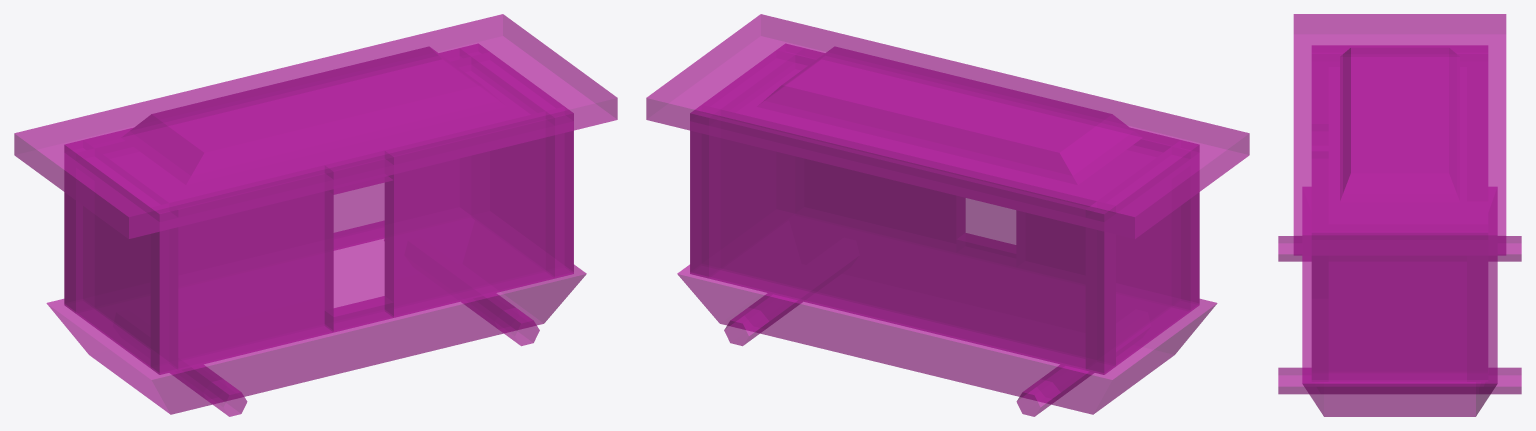
File: SM_Veh_Wagon_02_Collision.fbx
3 renders of one model, left to right at view 1: azimuth 30°, elevation 25°; view 2: azimuth 150°, elevation 25°; view 3: azimuth 270°, elevation 25°, orthographic. The views are drawn at different scales.
Visible parts, largest first — view 1: SM_Veh_Wagon_02_Collision; view 2: SM_Veh_Wagon_02_Collision; view 3: SM_Veh_Wagon_02_Collision.
Part boxes in pixels (x1,y1,x2,y2): SM_Veh_Wagon_02_Collision: [14, 14, 617, 416]; SM_Veh_Wagon_02_Collision: [646, 14, 1249, 416]; SM_Veh_Wagon_02_Collision: [1278, 14, 1521, 416].
Bounding box in the file's own units: 715 × 335 × 332.
